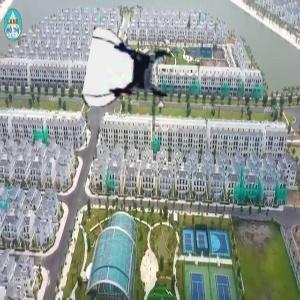drone: (88, 27, 178, 117)
